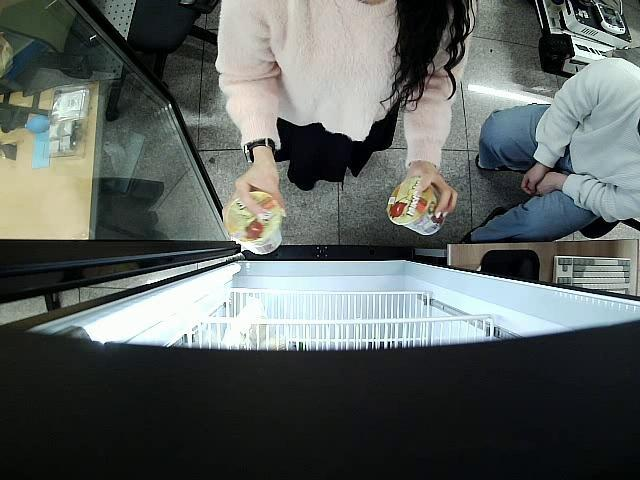04_chapagetti_S: (224, 192, 283, 255), (387, 176, 442, 237)
